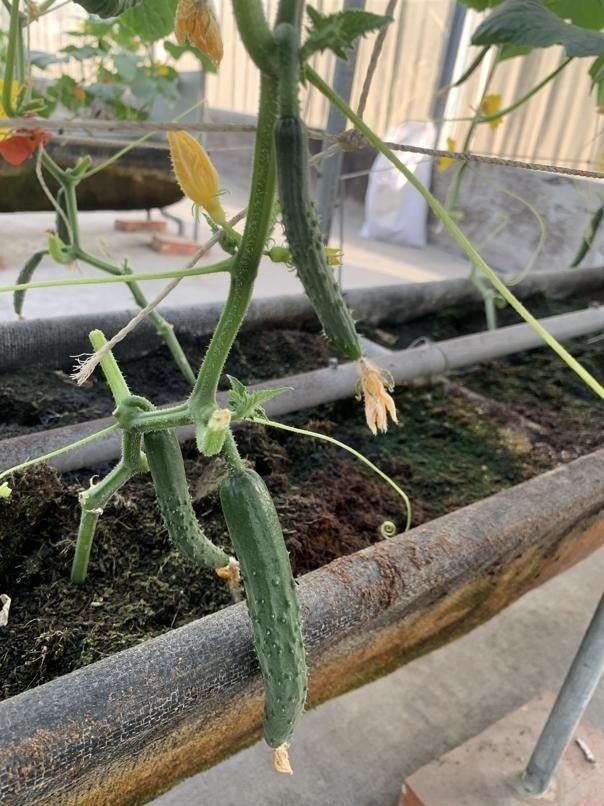bud: (168, 127, 228, 231)
growth: (275, 107, 382, 369), (141, 419, 233, 574)
mature: (217, 462, 312, 756)
